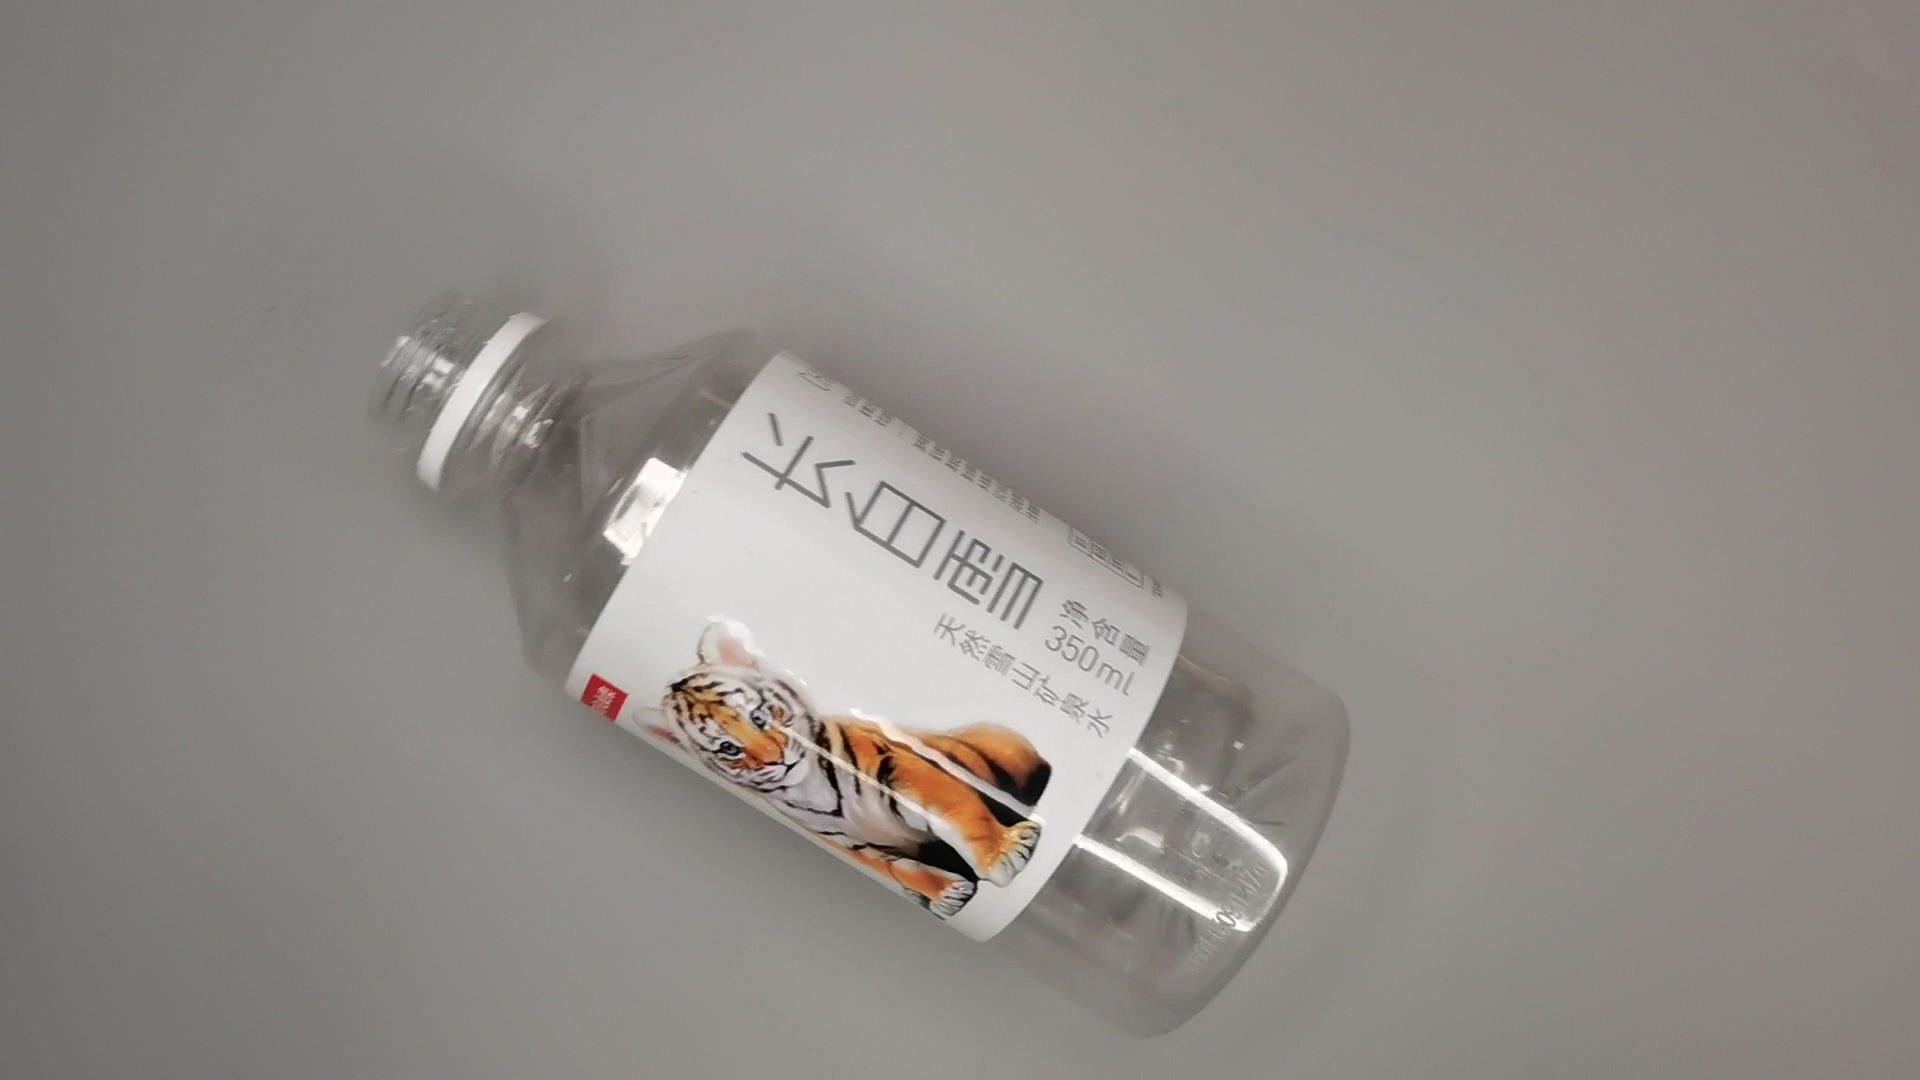bottle: (347, 282, 1360, 1048)
